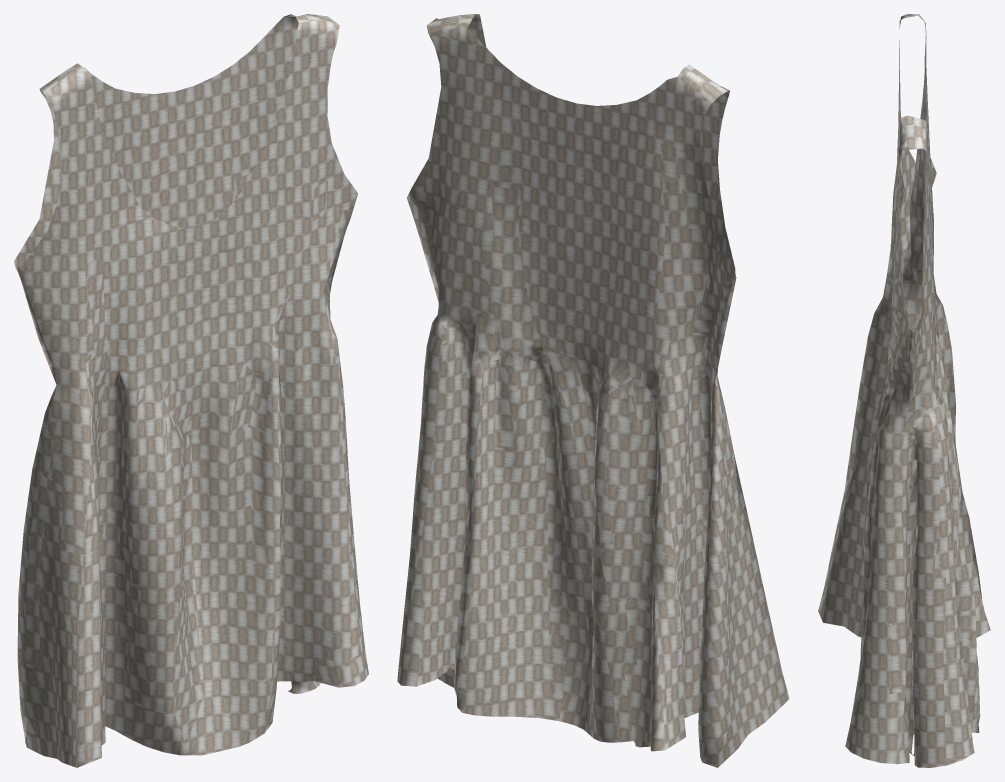
The model's file is yifu06_2.fbx.
The picture shows the model from 3 angles, left to right: view 1: azimuth 30°, elevation 25°; view 2: azimuth 150°, elevation 25°; view 3: azimuth 270°, elevation 25°; orthographic projection. The views are drawn at different scales.
Parts seen in each view (by area): view 1: yifu06_2; view 2: yifu06_2; view 3: yifu06_2.
Part boxes in pixels (x1=…): yifu06_2: x1=14, y1=14, x2=368, y2=767; yifu06_2: x1=397, y1=14, x2=789, y2=767; yifu06_2: x1=818, y1=14, x2=990, y2=767.
Bounding box in the file's own units: 41.89 × 83.99 × 19.78.
